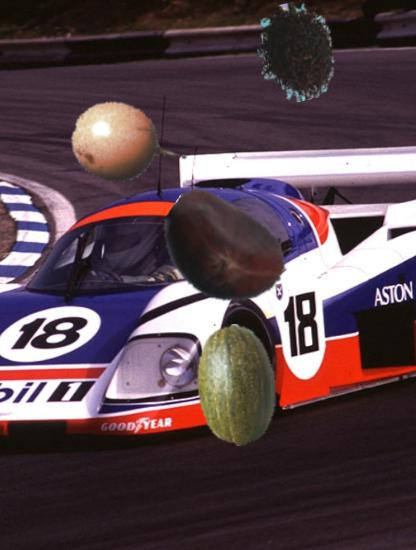Chestnut: (156, 186, 288, 318)
Granadilla: (69, 86, 189, 206)
Melon: (176, 324, 298, 446)
Rambutan: (245, 3, 344, 102)
